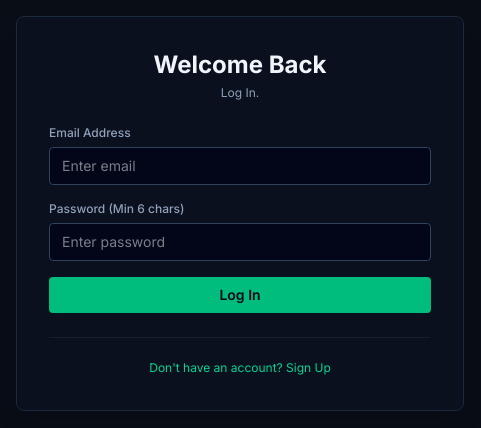
Test: Login Page (Client Component) › shows the pending-verification screen with a resend option when login email is not verified
The image size is (481, 428).
Type "unverified@domain.com" into the field with placeholder "Enter email" at point(240, 166), box [49,147,431,185]
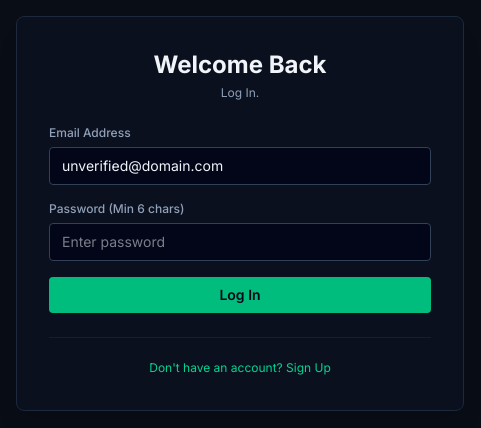
Type "correctPassword" into the password field with placeholder "Enter password" at point(240, 242), box [49,223,431,261]
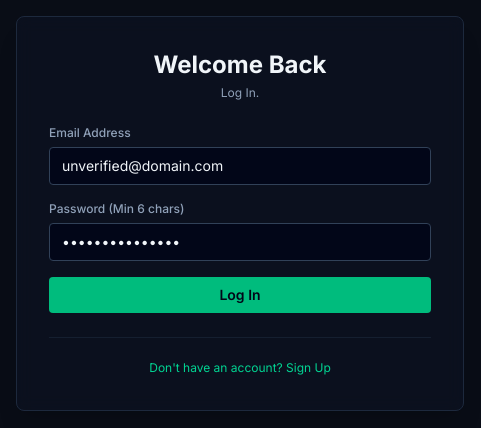
Click the button "Log In" at point(240, 295), box [49,277,431,313]
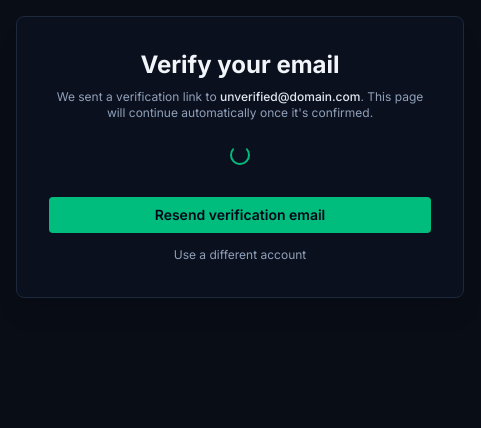
Now the heading "Verify your email" is shown, box [140,50,340,79]
Now the button "Resend verification email" is shown, box [49,197,431,233]
